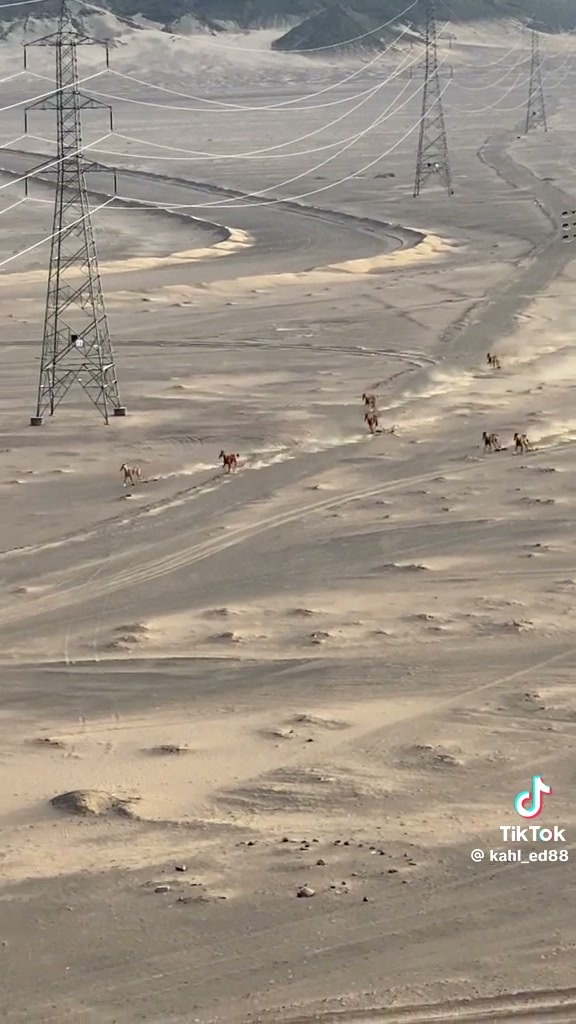animal: (120, 463, 140, 486), (219, 450, 238, 472), (514, 432, 531, 453), (482, 431, 499, 451), (364, 411, 378, 433), (487, 353, 500, 369), (362, 393, 375, 408)
vehicle_track: (0, 470, 436, 625), (284, 987, 575, 1023), (107, 954, 192, 1002)
